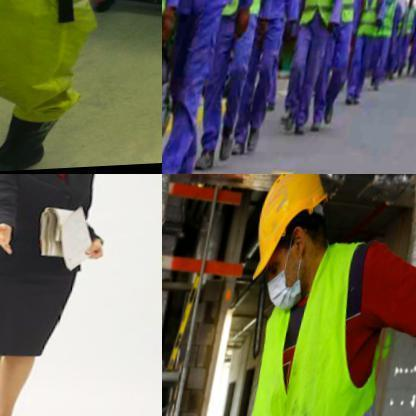vest: (229, 237, 415, 415), (0, 0, 161, 132), (304, 0, 353, 32), (362, 0, 395, 44), (227, 0, 284, 24), (384, 0, 406, 43), (342, 0, 374, 25)
